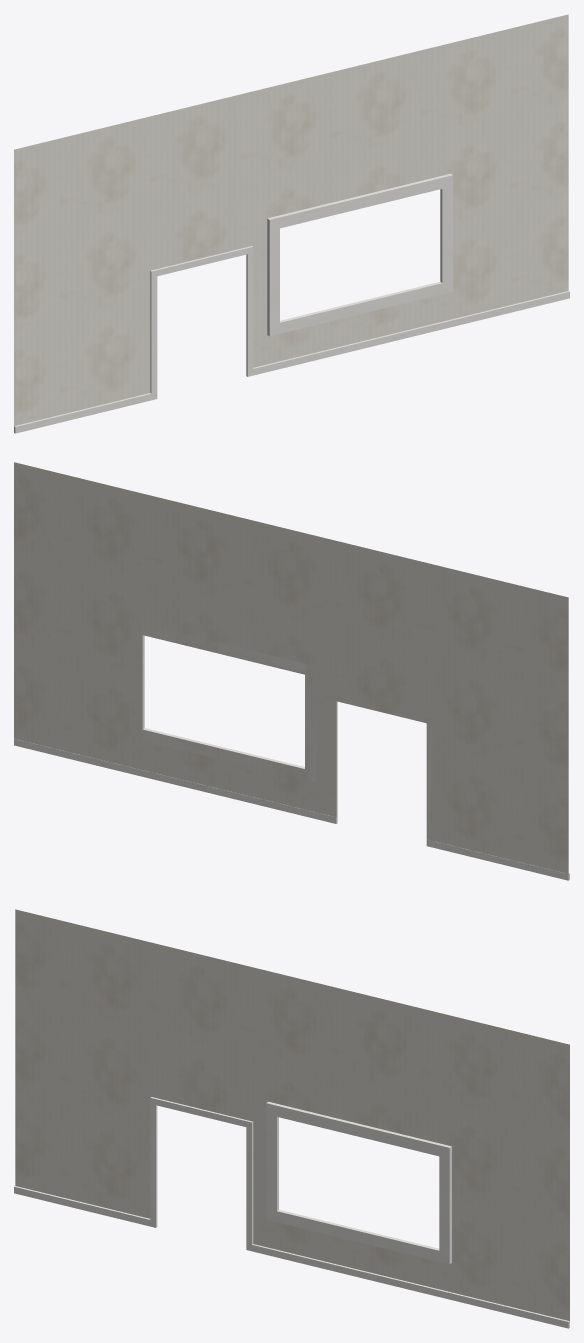
3 views of the same model, one above another, from view 1: azimuth 30°, elevation 25°; view 2: azimuth 150°, elevation 25°; view 3: azimuth 330°, elevation 25° (orthographic).
Parts seen in each view (by area): view 1: jx_wm_12_858d7649; view 2: jx_wm_12_858d7649; view 3: jx_wm_12_858d7649.
Part boxes in pixels (bbox=[...]): jx_wm_12_858d7649: bbox=[14, 14, 569, 433]; jx_wm_12_858d7649: bbox=[14, 462, 569, 880]; jx_wm_12_858d7649: bbox=[14, 909, 569, 1328].
Bounding box in the file's own units: 12.3 × 6 × 0.086.
Materials: 2 (2 with a texture image).
